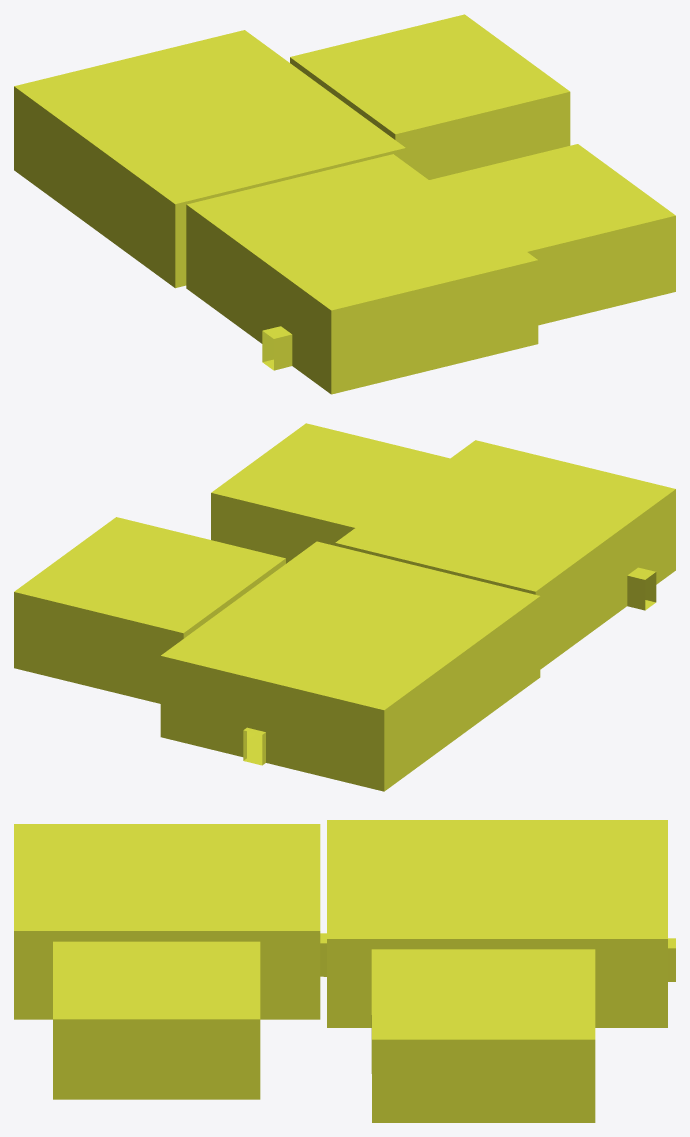
Rendered from Zone2_Map.fbx.
3 renders of one model, top to bottom at view 1: azimuth 30°, elevation 25°; view 2: azimuth 150°, elevation 25°; view 3: azimuth 270°, elevation 25°, orthographic. The views are drawn at different scales.
Parts seen in each view (by area): view 1: Zone2MAP; view 2: Zone2MAP; view 3: Zone2MAP.
Boxes of the visible parts, x1,y1,x2,y2 form: Zone2MAP: (14, 14, 675, 394); Zone2MAP: (14, 423, 675, 791); Zone2MAP: (14, 820, 675, 1122).
Size of the model in its own units: 3109 by 585 by 3948.
